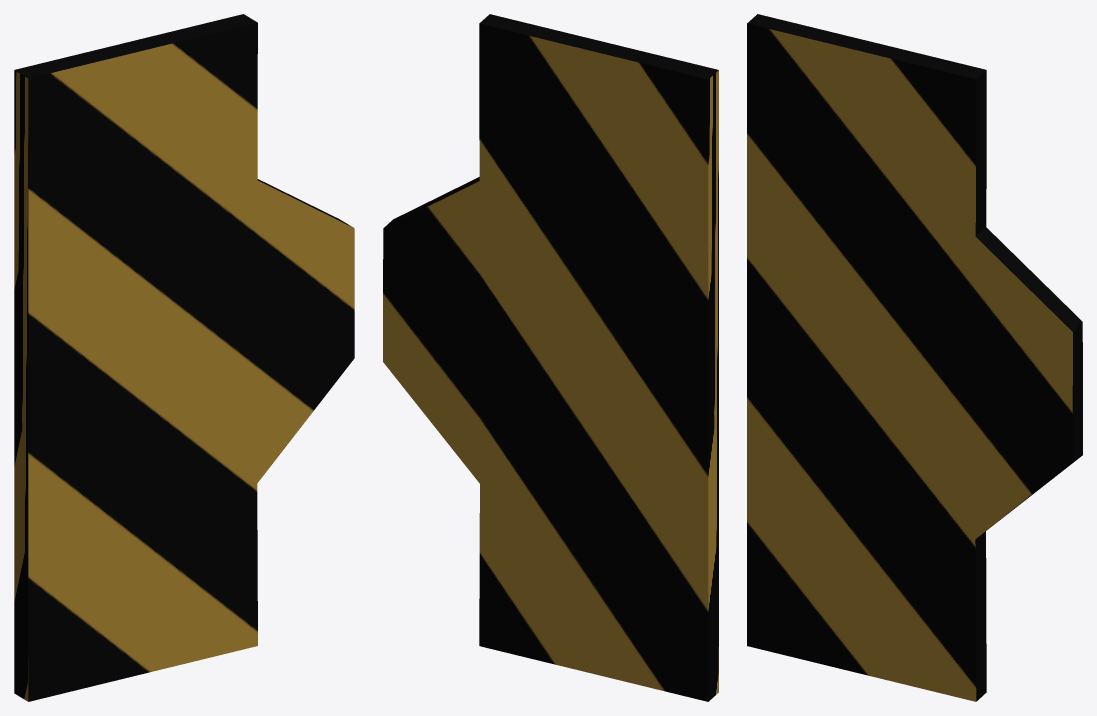
The model's file is portalPuertaIzquierda.obj.
3 views of the same model, side by side, from view 1: azimuth 30°, elevation 25°; view 2: azimuth 150°, elevation 25°; view 3: azimuth 330°, elevation 25° (orthographic).
Visible parts, largest first — view 1: polySurface1 pCube7; view 2: polySurface1 pCube7; view 3: polySurface1 pCube7.
Part boxes in pixels (x1=…): polySurface1 pCube7: x1=14, y1=14, x2=354, y2=701; polySurface1 pCube7: x1=383, y1=14, x2=718, y2=701; polySurface1 pCube7: x1=747, y1=14, x2=1082, y2=701.
Size of the model in its own units: 2.3 by 4.17 by 0.1511.
